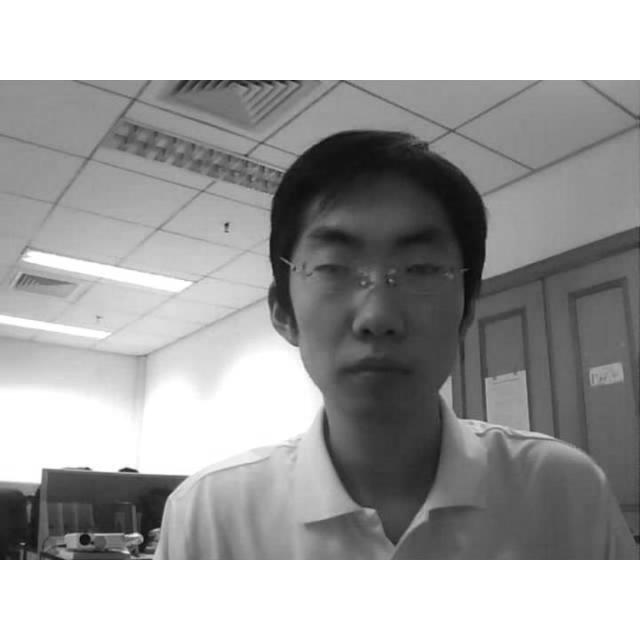real: (261, 122, 495, 420)
